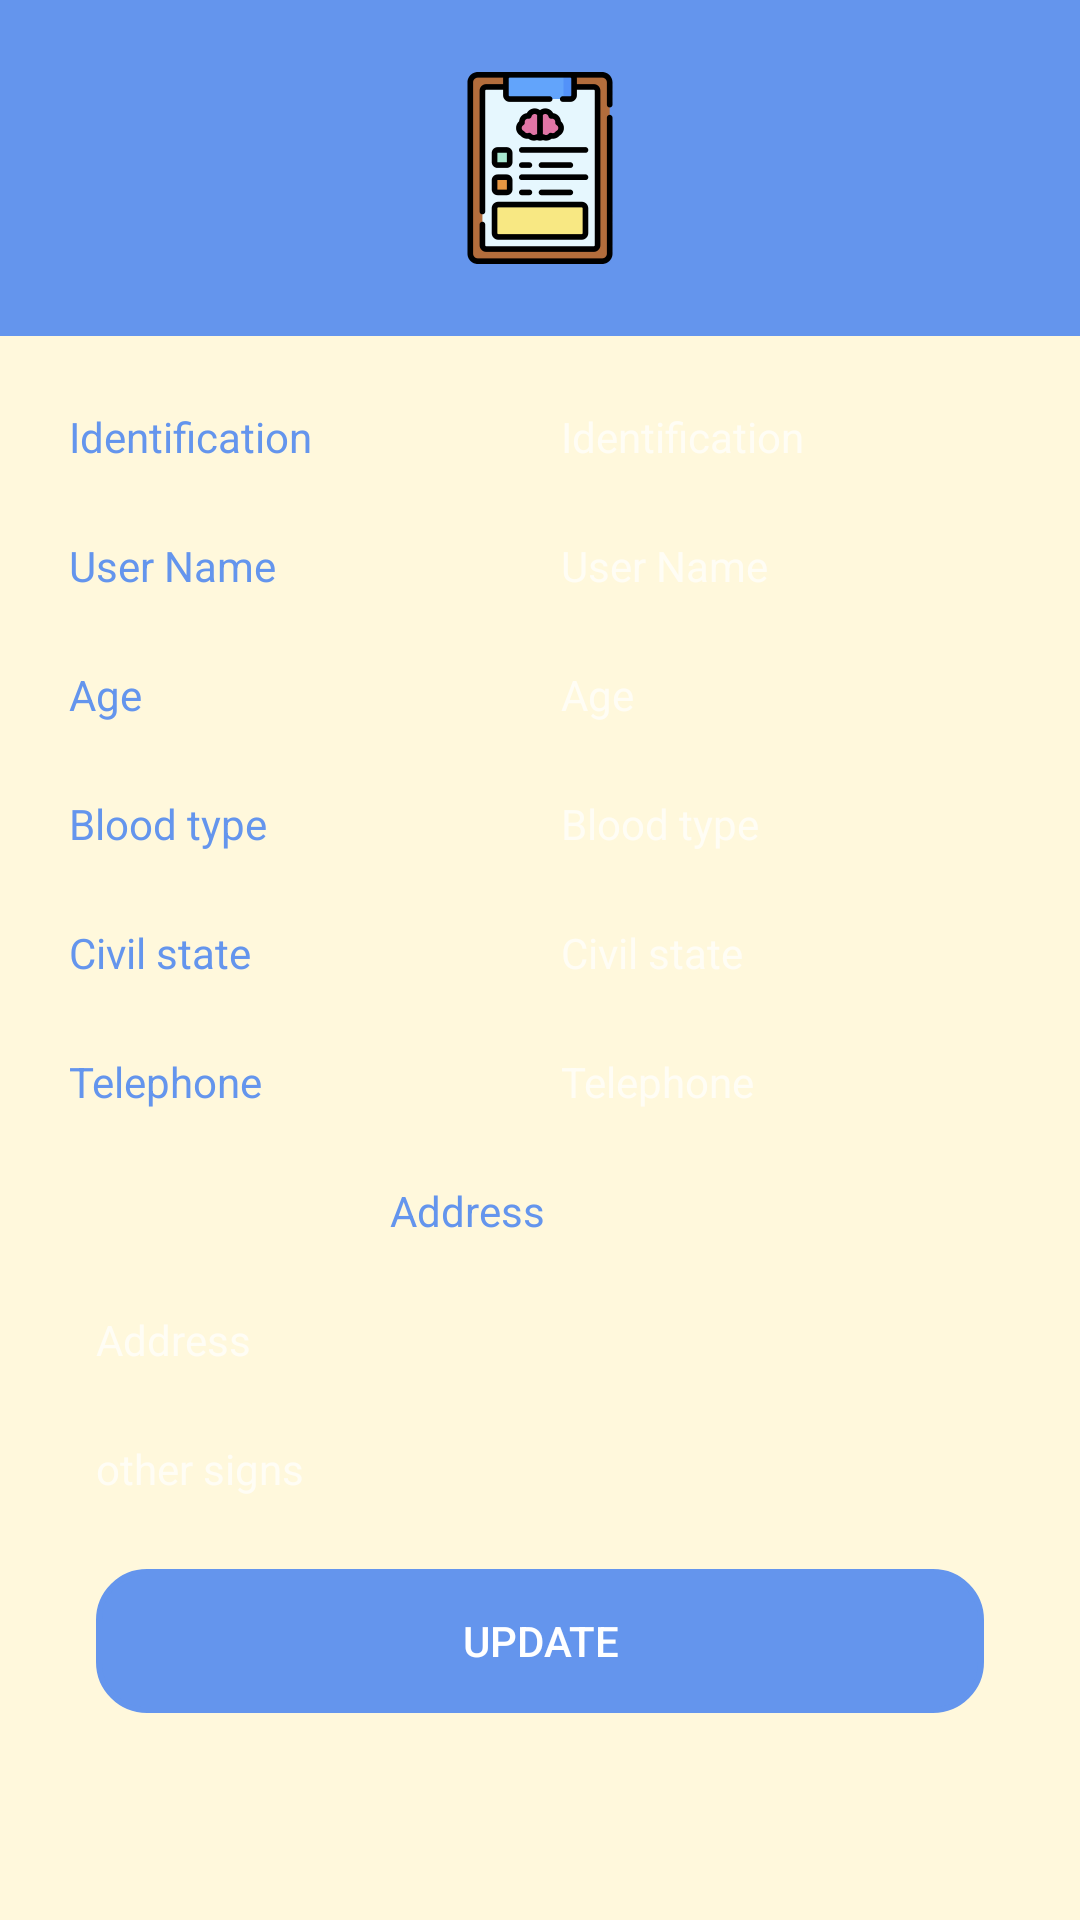

Screen size 1080x1920. Icon name, then its center in pixels as [x,y]:
user data: [540,168]
